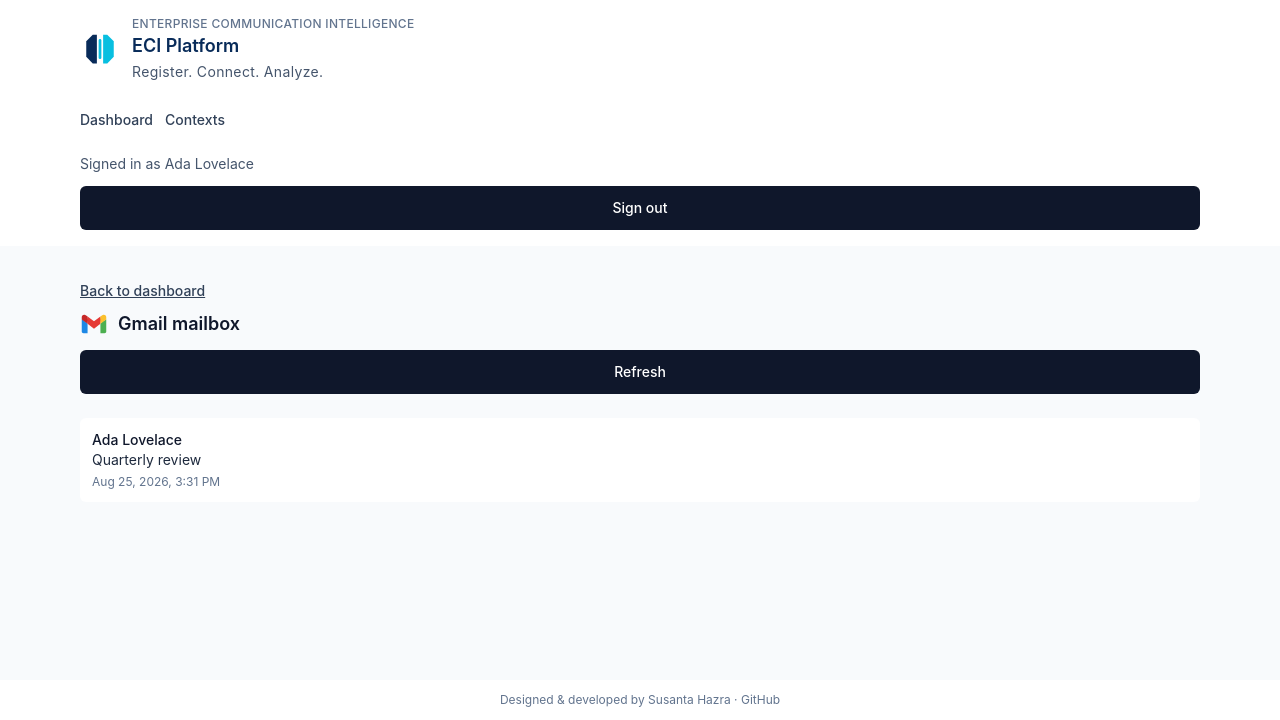
it: analyze trigger › does not issue an analyze request without communications:analyze
Click the button "Ada Lovelace Quarterly review Aug 25, 2026, 3:31 PM".
click(137, 440)  # box [80,418,1200,502]
(page scrolled)
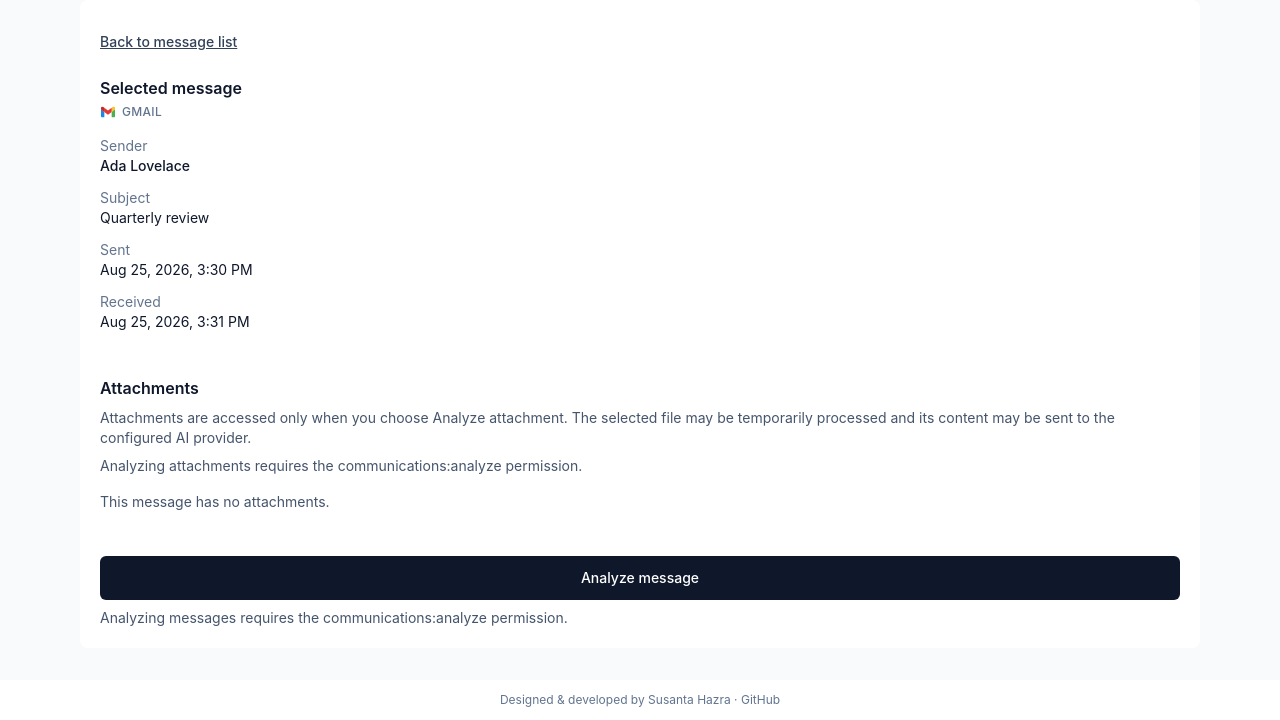
Expected: the button "Analyze message" is disabled, [100,556,1180,600]
Expected: the text "communications:analyze permission" is shown, [100,457,582,474]
